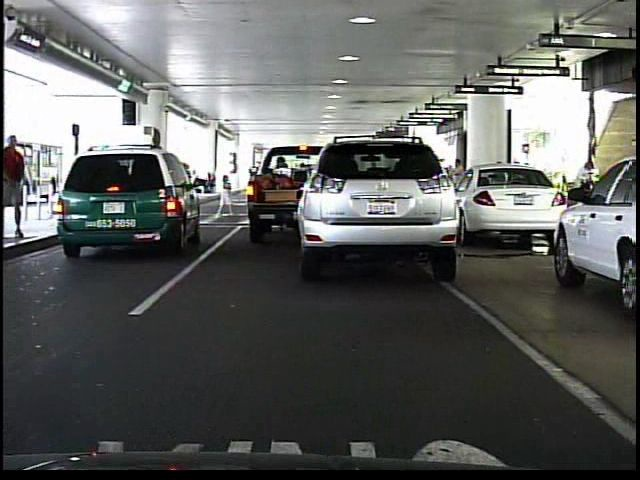person: (5, 133, 32, 243), (212, 169, 241, 223), (451, 156, 466, 180)
